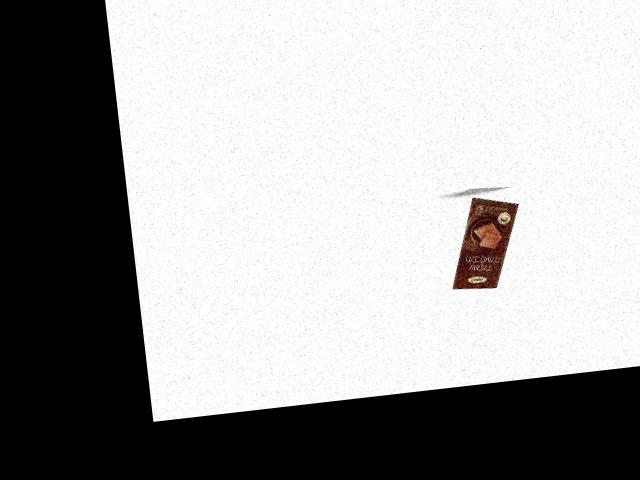chocolate: (441, 188, 530, 294)
